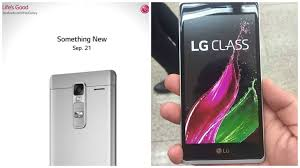lg: (175, 1, 266, 164)
